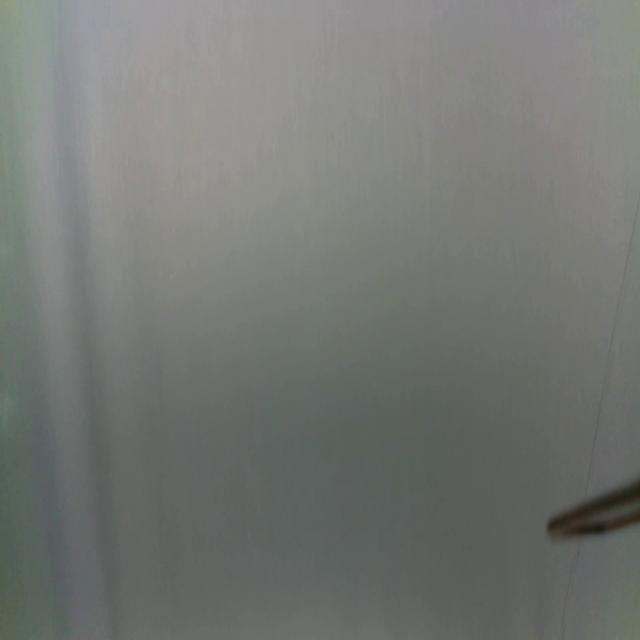crease: (581, 199, 640, 485), (553, 539, 585, 640)
